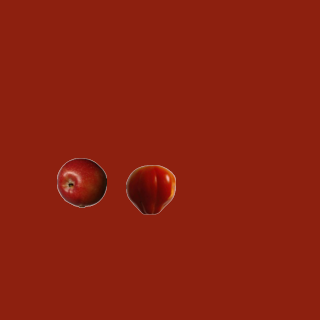Apple Braeburn: (56, 157, 106, 207)
Tomato 1: (125, 164, 175, 214)
